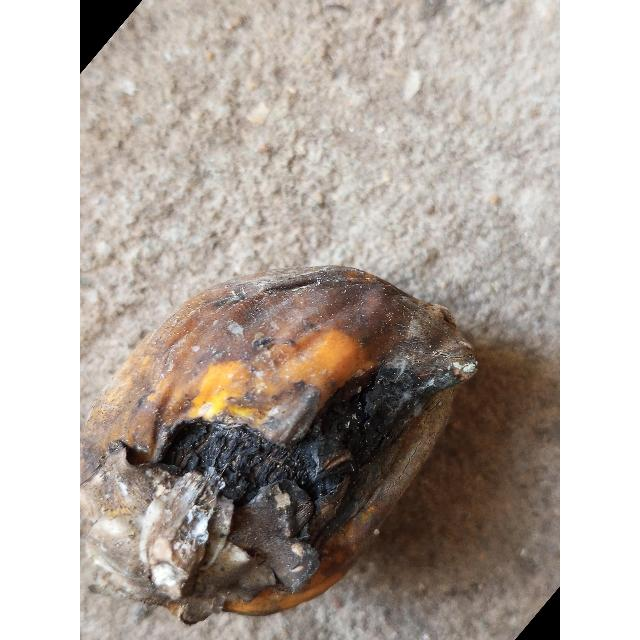damaged: (80, 269, 479, 625)
